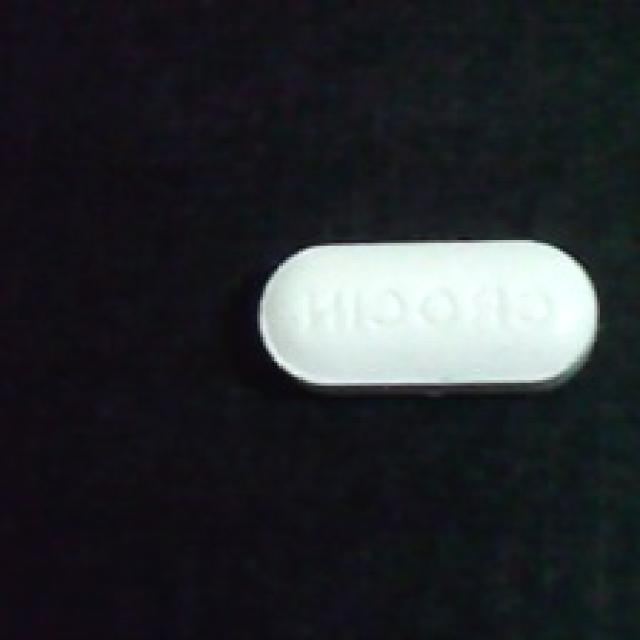no-defect: (251, 223, 617, 400)
